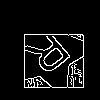R: (21, 26, 80, 85)
